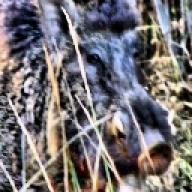boar: (0, 0, 176, 192)
